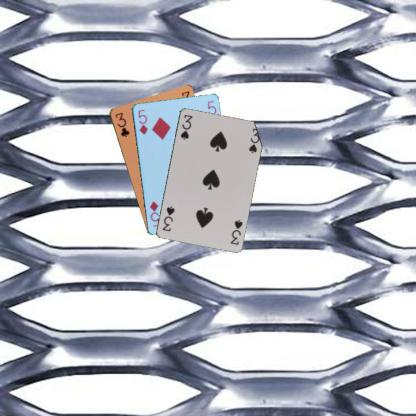3c: (113, 110, 130, 138)
3s: (228, 216, 244, 246), (178, 112, 194, 141)
5d: (135, 107, 149, 136)
